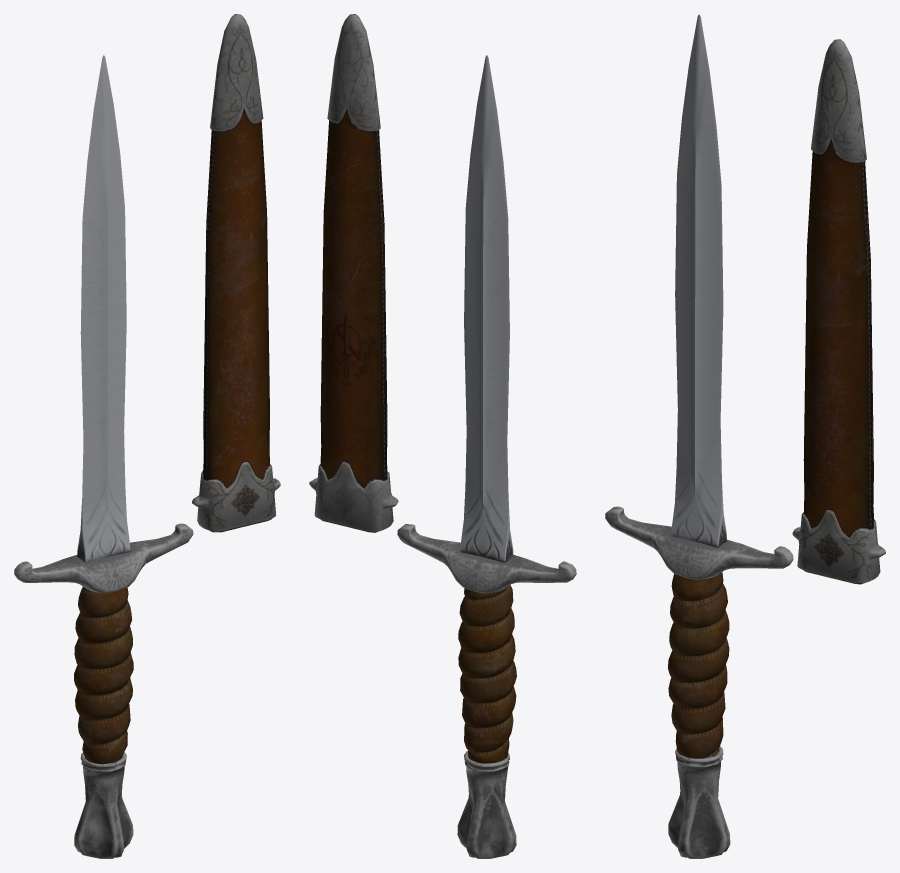
File: ornate_medieval_dagger.glb
3 views of the same model, side by side, from view 1: azimuth 30°, elevation 25°; view 2: azimuth 150°, elevation 25°; view 3: azimuth 330°, elevation 25° (orthographic). The views are drawn at different scales.
Parts seen in each view (by area): view 1: ornate_medieval_dagger; view 2: ornate_medieval_dagger; view 3: ornate_medieval_dagger.
Boxes of the visible parts, x1=… form: ornate_medieval_dagger: x1=14, y1=14, x2=280, y2=858; ornate_medieval_dagger: x1=309, y1=14, x2=576, y2=858; ornate_medieval_dagger: x1=605, y1=14, x2=885, y2=858.
Size of the model in its own units: 0.1199 by 0.3489 by 0.025.
1 material, 1 textured.
